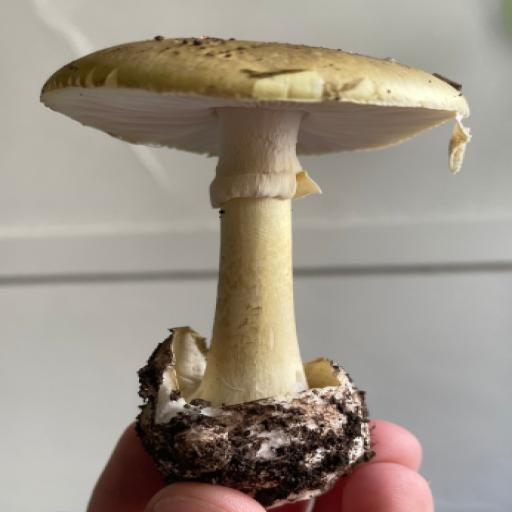Death Cap: (0, 0, 467, 512)
